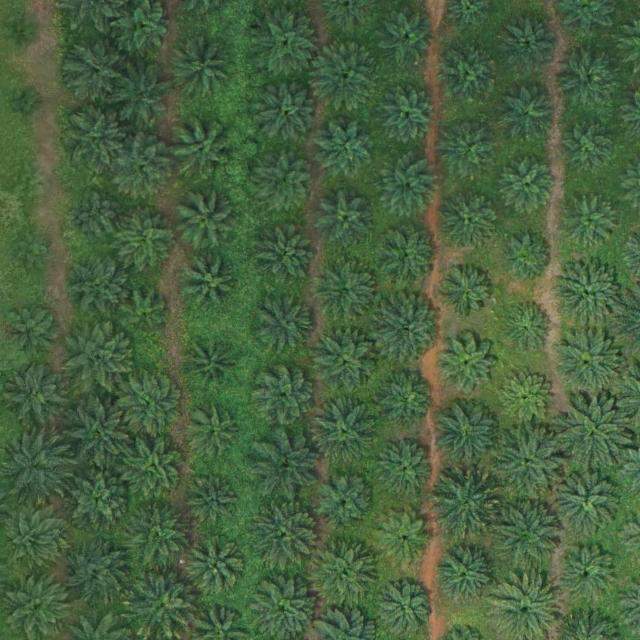Kelapa_Sawit: (0, 421, 70, 504), (120, 565, 192, 639), (63, 35, 133, 106), (310, 326, 380, 397), (372, 293, 442, 364), (433, 399, 503, 470), (428, 470, 498, 541), (494, 427, 564, 498), (492, 497, 562, 568), (553, 540, 623, 611), (373, 149, 443, 219), (312, 39, 382, 109), (253, 5, 323, 75), (252, 75, 322, 145), (63, 97, 133, 167), (64, 322, 134, 392), (63, 400, 133, 470), (61, 536, 131, 606), (126, 506, 196, 576), (251, 426, 321, 496), (251, 502, 321, 572), (309, 393, 379, 463), (307, 537, 377, 607), (432, 537, 502, 607), (551, 257, 621, 327), (552, 329, 622, 399), (557, 395, 627, 465), (553, 466, 623, 536), (242, 569, 311, 640), (0, 569, 66, 640), (491, 568, 555, 636), (4, 359, 66, 426), (556, 47, 618, 110), (496, 11, 558, 74), (496, 81, 558, 144), (437, 117, 499, 180), (437, 188, 499, 251), (375, 86, 437, 149), (314, 118, 376, 181), (112, 205, 174, 268), (69, 181, 131, 244), (69, 258, 131, 321), (68, 471, 130, 534), (124, 374, 186, 437), (122, 434, 184, 497), (180, 336, 242, 399), (184, 534, 246, 597), (252, 361, 314, 424), (313, 468, 375, 531), (254, 147, 316, 209), (254, 223, 316, 285), (174, 34, 236, 96), (174, 119, 236, 181), (176, 190, 238, 252), (111, 136, 173, 198), (3, 509, 65, 571), (257, 290, 319, 352), (315, 258, 377, 320), (374, 367, 436, 429), (374, 438, 436, 500), (434, 333, 496, 395), (111, 0, 169, 54), (558, 121, 613, 176), (379, 8, 434, 63), (115, 68, 170, 123), (4, 303, 59, 358), (377, 583, 432, 638), (439, 265, 494, 320), (500, 299, 555, 354), (498, 370, 553, 425), (562, 194, 616, 249), (500, 157, 554, 212), (441, 45, 495, 100), (317, 193, 371, 248), (380, 227, 434, 282), (188, 403, 242, 458), (186, 474, 240, 529), (377, 511, 431, 566), (498, 229, 552, 284), (552, 0, 618, 38), (189, 262, 235, 309), (123, 289, 169, 335), (194, 603, 247, 639), (8, 226, 50, 269), (8, 84, 45, 120), (7, 168, 43, 205), (444, 0, 488, 28), (4, 12, 35, 43)
